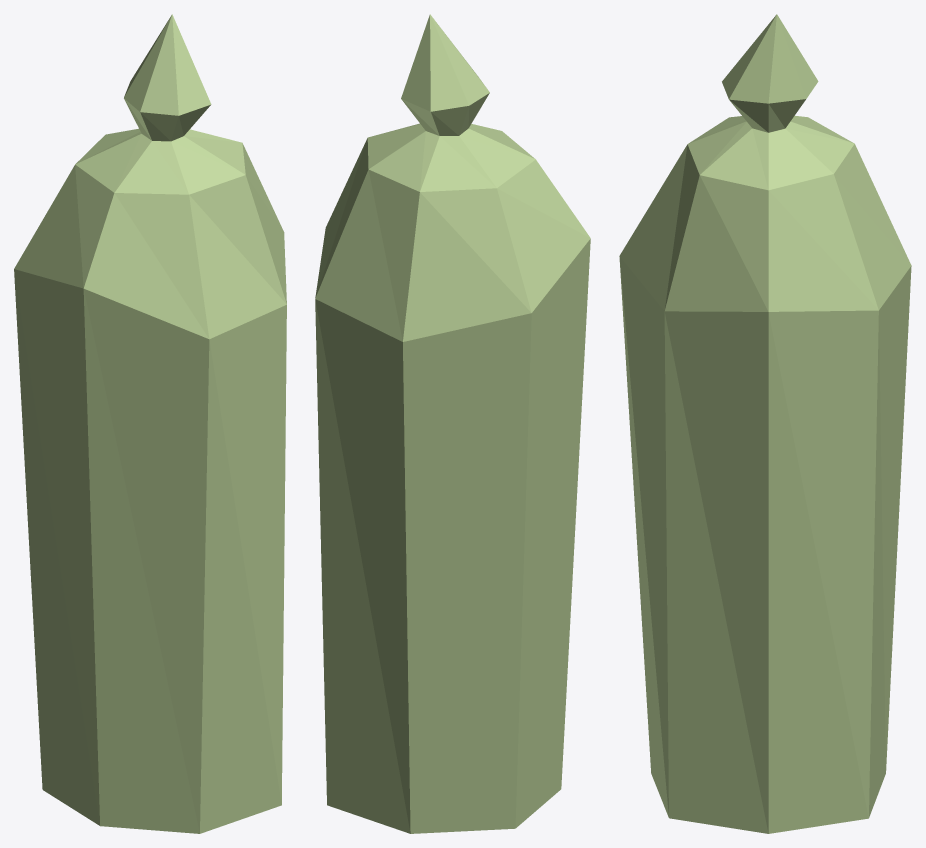
Rendered from hedge-candle.glb.
3 views of the same model, side by side, from view 1: azimuth 30°, elevation 25°; view 2: azimuth 150°, elevation 25°; view 3: azimuth 270°, elevation 25° (orthographic).
Parts seen in each view (by area): view 1: hedge-candle; view 2: hedge-candle; view 3: hedge-candle.
Boxes of the visible parts, x1,y1,x2,y2 form: hedge-candle: (14, 14, 286, 833); hedge-candle: (315, 14, 590, 833); hedge-candle: (619, 14, 911, 833).
Size of the model in its own units: 0.1647 by 0.52 by 0.1732.
